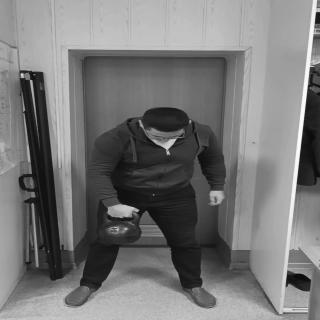kettlebell: (99, 210, 143, 246)
